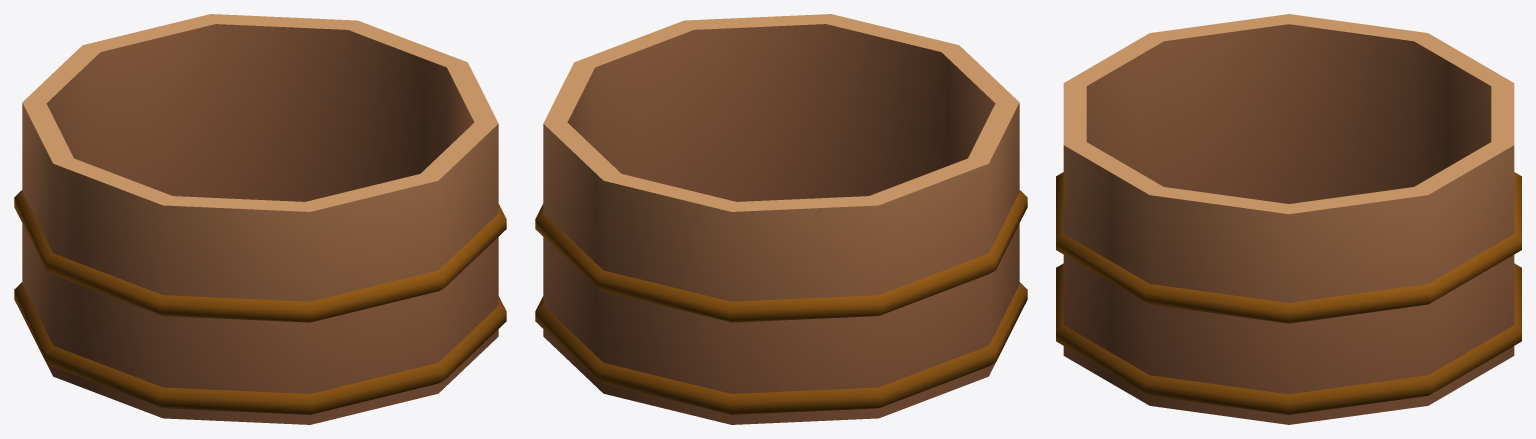
File: SK_Bucket_A_01.FBX
3 views of the same model, side by side, from view 1: azimuth 30°, elevation 25°; view 2: azimuth 150°, elevation 25°; view 3: azimuth 270°, elevation 25° (orthographic).
Visible parts, largest first — view 1: SK_Bucket_A_01; view 2: SK_Bucket_A_01; view 3: SK_Bucket_A_01.
Boxes of the visible parts, x1,y1,x2,y2 form: SK_Bucket_A_01: (14,14,506,424); SK_Bucket_A_01: (535,14,1027,424); SK_Bucket_A_01: (1056,14,1521,424).
Bounding box in the file's own units: 26.26 × 12.46 × 24.97.
